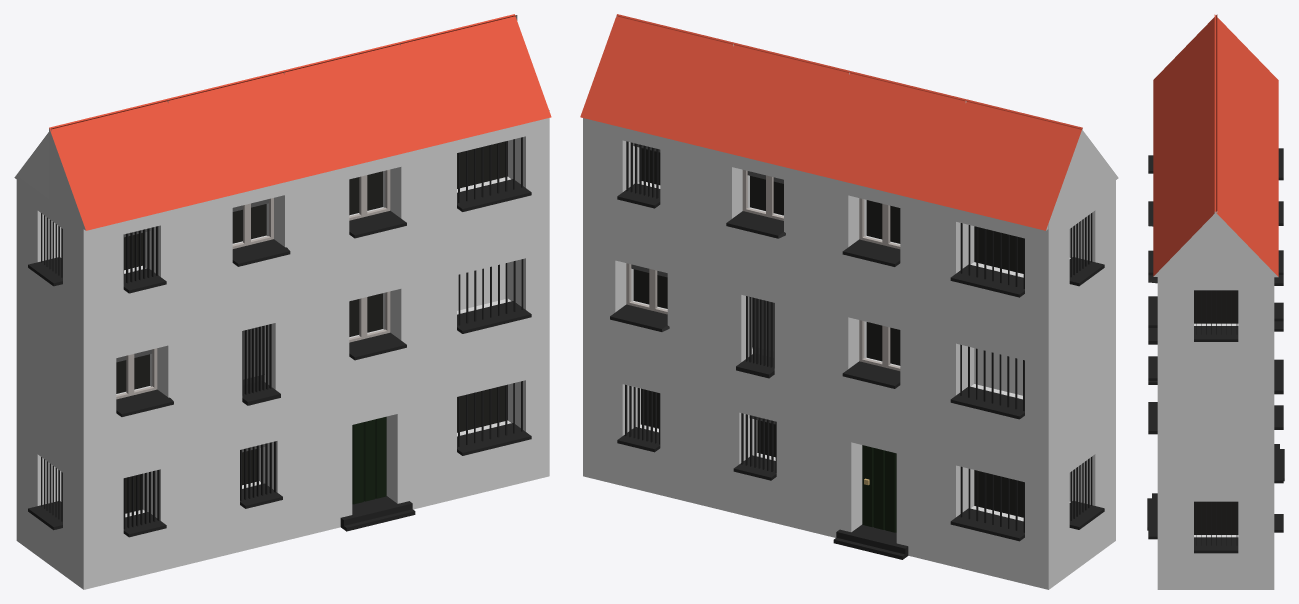
The model's file is Casa_Procedural_4.fbx.
The picture shows the model from 3 angles, left to right: view 1: azimuth 30°, elevation 25°; view 2: azimuth 150°, elevation 25°; view 3: azimuth 270°, elevation 25°; orthographic projection. The views are drawn at different scales.
Visible parts, largest first — view 1: 4; view 2: 4; view 3: 4.
Boxes of the visible parts, x1,y1,x2,y2 form: 4: (14, 14, 551, 589); 4: (580, 14, 1118, 589); 4: (1147, 14, 1284, 589).
Bounding box in the file's own units: 416 × 359 × 118.
